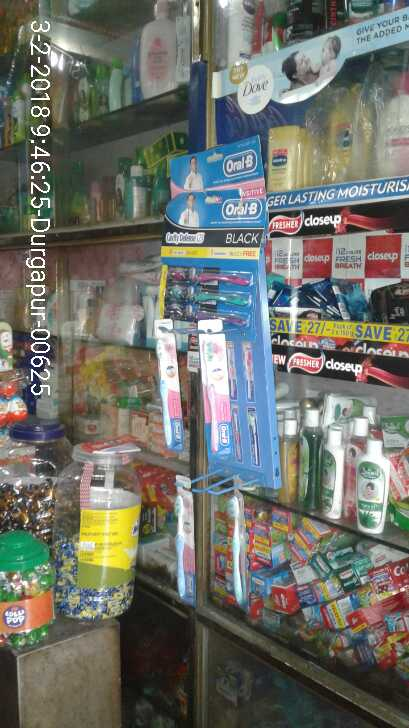oralb: (160, 262, 256, 325), (195, 332, 235, 457), (151, 334, 184, 454), (222, 497, 249, 602), (169, 492, 190, 600)
